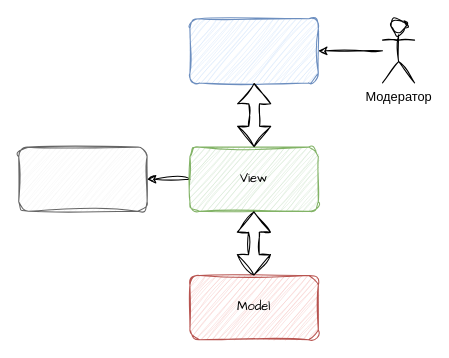
The diagram is 449 pixels wide and 358 high, and some of its shapes have lost their labels. Each missing label, with the centre of its shape:
"Profile" goes at pixel 82 178.
"Template" goes at pixel 253 50.
